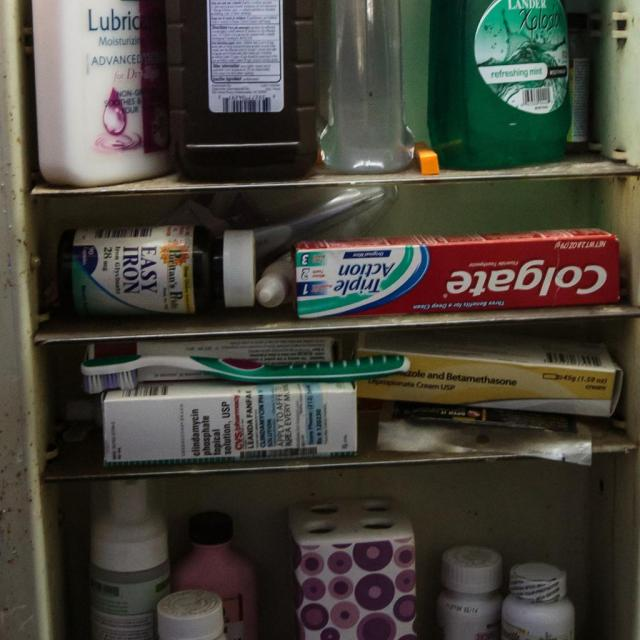Toothpaste: (278, 224, 629, 322)
